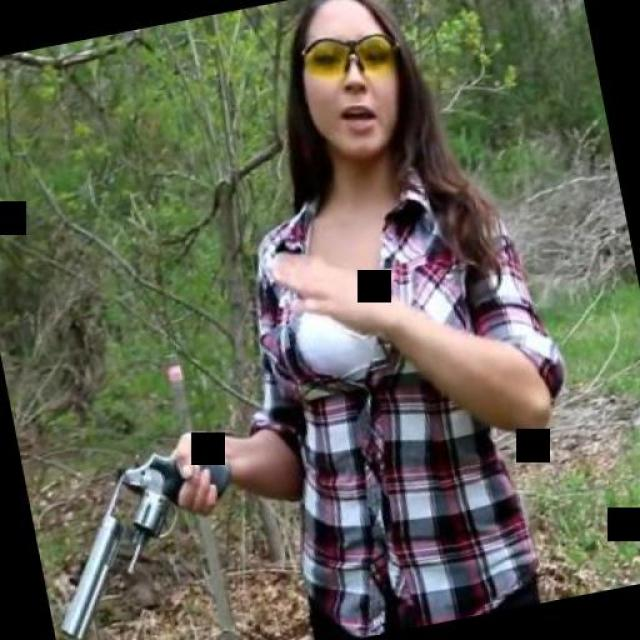gun: (26, 429, 255, 640)
